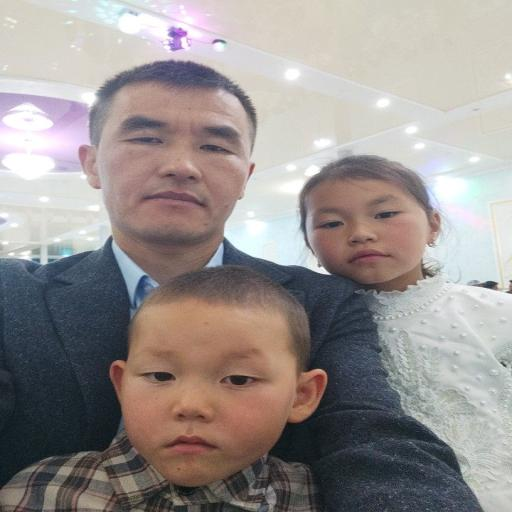bus_stop: (283, 150, 512, 512), (0, 266, 333, 512)
hole: (0, 48, 512, 512)
